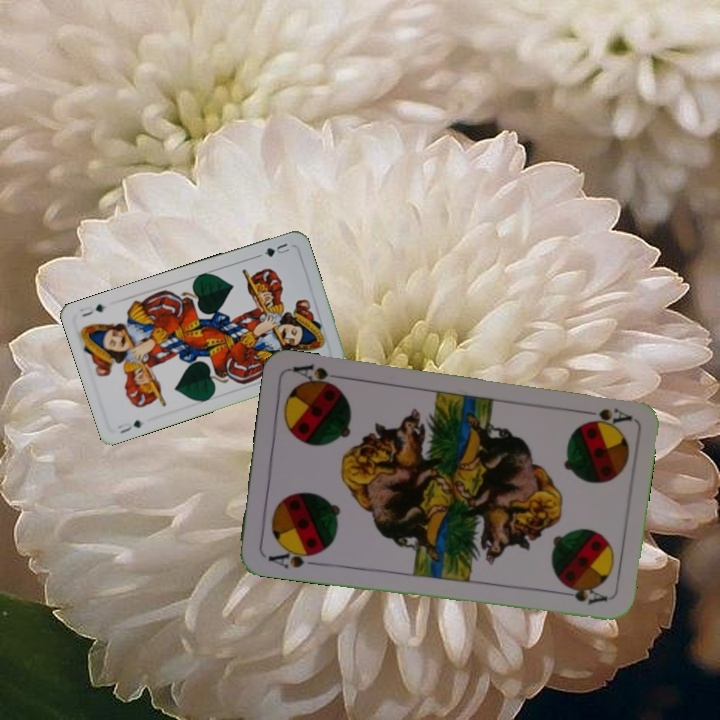GU: (260, 239, 292, 260), (114, 416, 145, 437)
SA: (264, 543, 322, 571), (575, 404, 634, 429)
